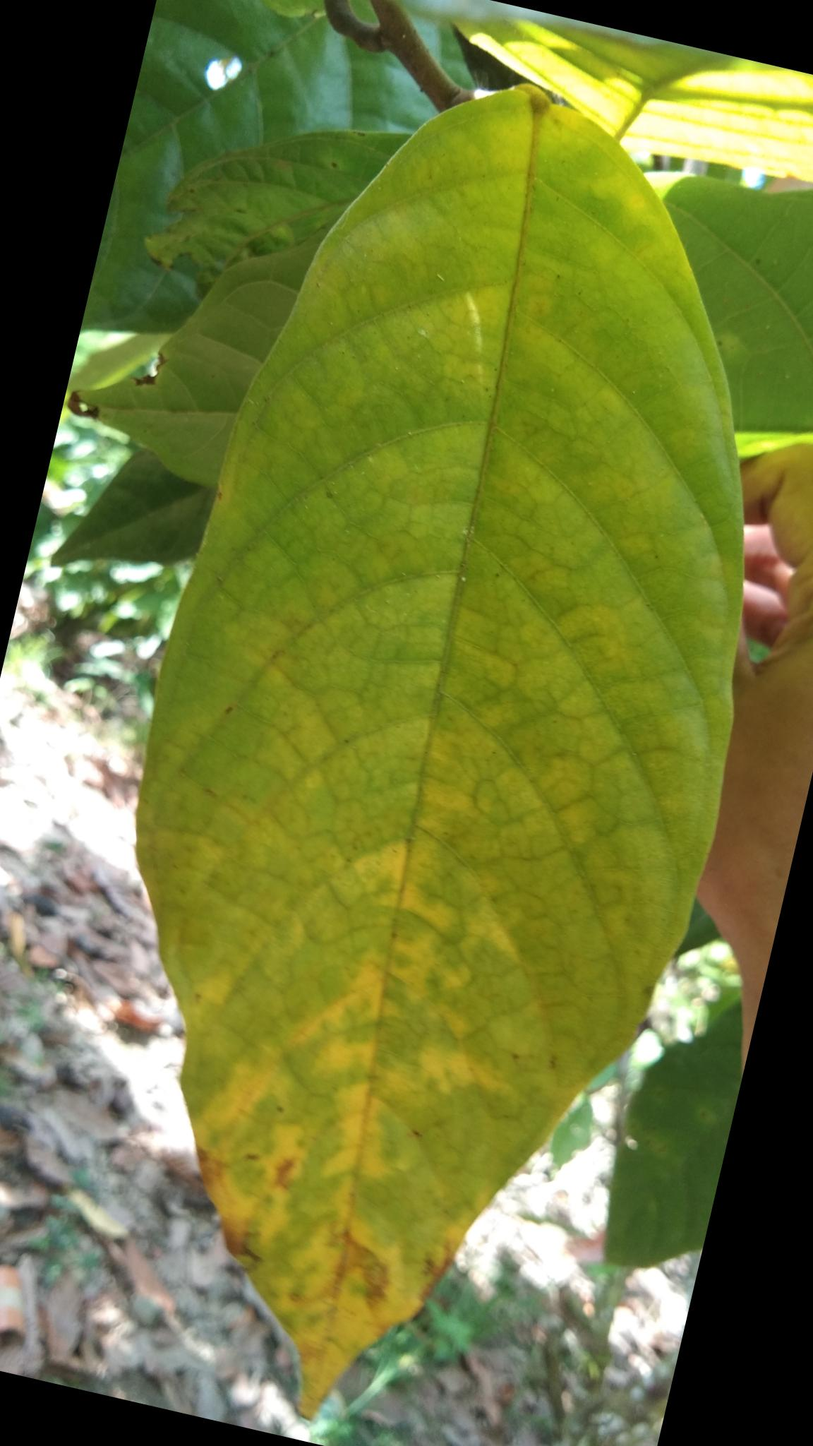Fosforo: (125, 69, 741, 1440)
